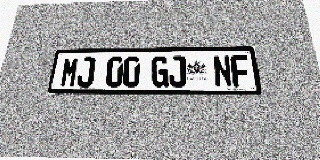0: (105, 56, 124, 87), (122, 56, 140, 87)
F: (230, 55, 251, 87)
G: (151, 56, 168, 87)
J: (76, 57, 96, 87), (169, 56, 186, 87)
M: (59, 57, 80, 87)
N: (213, 55, 233, 87)
